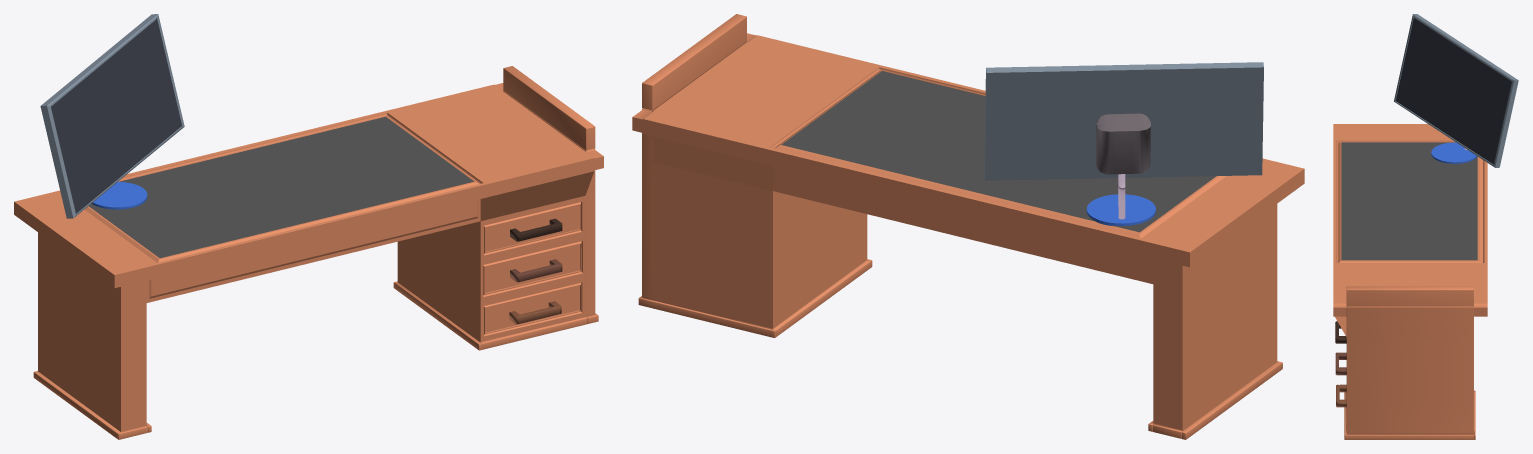
Rendered from desk.fbx.
The picture shows the model from 3 angles, left to right: view 1: azimuth 30°, elevation 25°; view 2: azimuth 150°, elevation 25°; view 3: azimuth 270°, elevation 25°; orthographic projection. The views are drawn at different scales.
Parts seen in each view (by area): view 1: Cube, 平面, 柱体.001, 立方体, 立方体.001, 立方体.002; view 2: Cube, 柱体.001, 平面; view 3: Cube, 平面, 柱体.001, 立方体.001, 立方体.
Boxes of the visible parts, bbox=[...] form: Cube: bbox=[14, 66, 603, 439]; 平面: bbox=[89, 116, 473, 258]; 柱体.001: bbox=[40, 14, 184, 218]; 立方体: bbox=[509, 301, 561, 324]; 立方体.001: bbox=[510, 259, 562, 282]; 立方体.002: bbox=[510, 218, 562, 241]; Cube: bbox=[632, 14, 1304, 439]; 柱体.001: bbox=[984, 62, 1263, 226]; 平面: bbox=[781, 71, 1216, 232]; Cube: bbox=[1333, 124, 1487, 439]; 平面: bbox=[1341, 142, 1477, 260]; 柱体.001: bbox=[1394, 14, 1518, 167]; 立方体.001: bbox=[1335, 352, 1346, 375]; 立方体: bbox=[1336, 384, 1346, 407].
Size of the model in its own units: 969 by 560 by 397.
